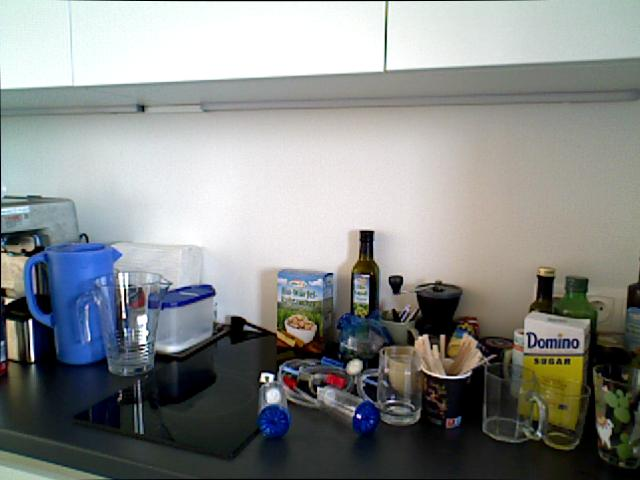bench: (551, 275, 599, 391), (528, 266, 559, 389), (349, 229, 380, 318), (620, 261, 640, 379)
bird: (280, 312, 320, 347)
handbag: (23, 241, 122, 365), (76, 270, 172, 377), (481, 362, 547, 443), (592, 363, 639, 469), (359, 347, 420, 427), (527, 376, 591, 450), (420, 358, 472, 429)
